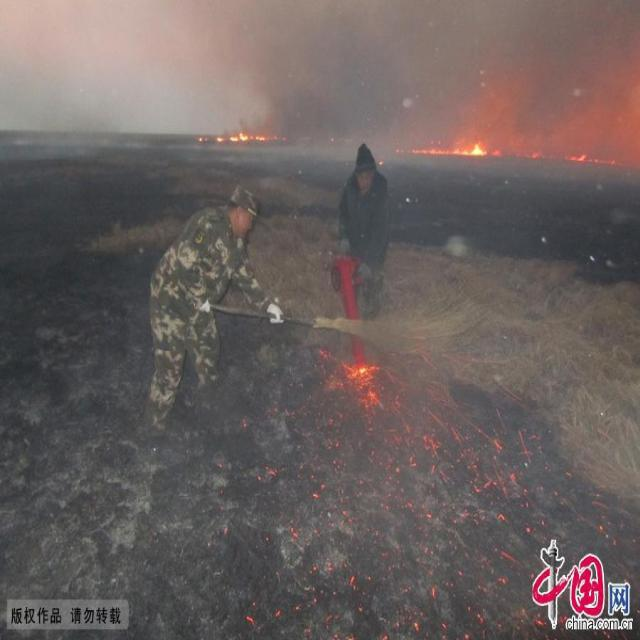fire: (410, 128, 499, 154), (333, 341, 376, 386), (211, 127, 286, 150), (569, 144, 590, 162)
other: (334, 252, 369, 365)
